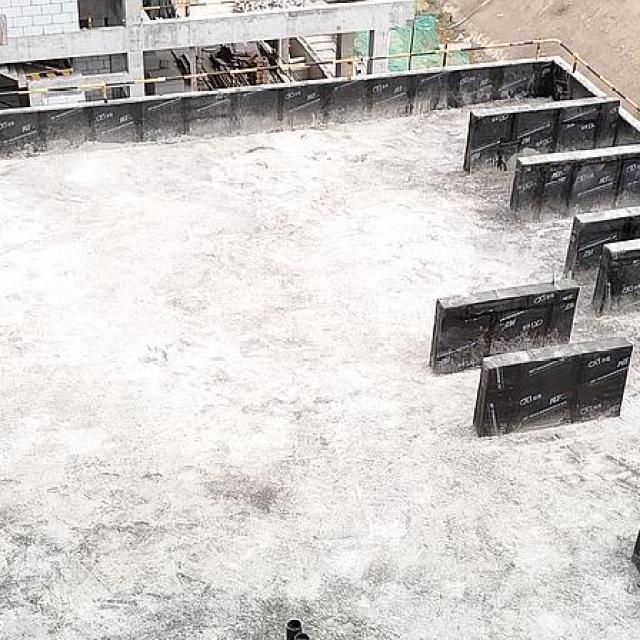edge_guardrail: (0, 36, 640, 114), (144, 0, 250, 17)
